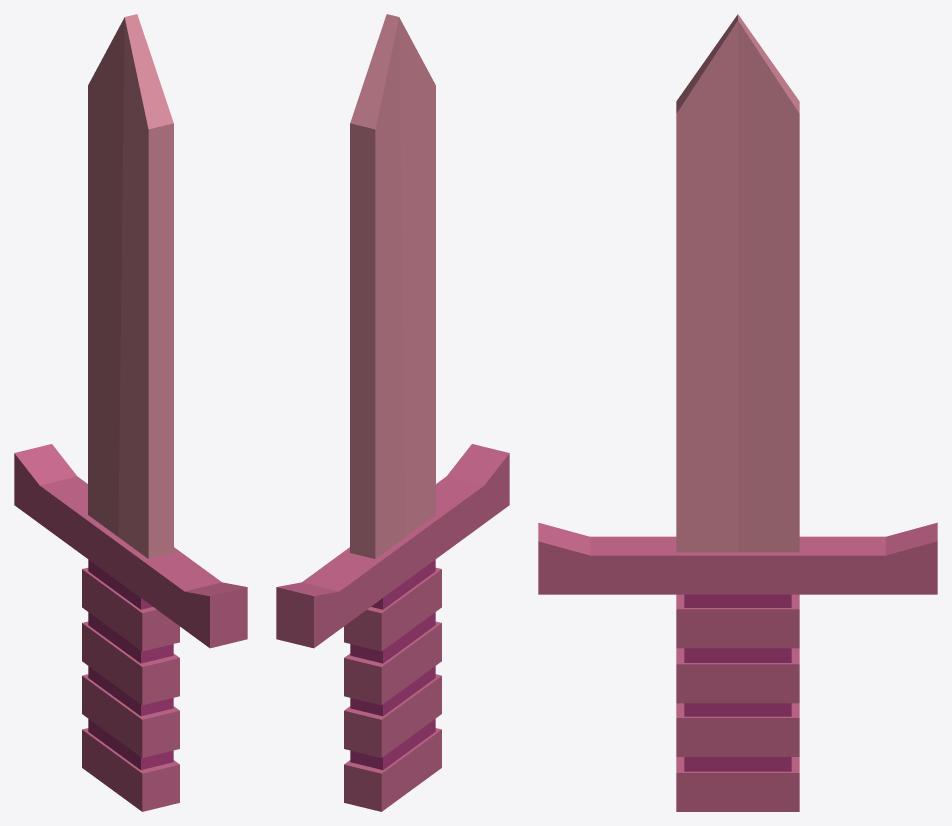
File: ironSword.glb
3 views of the same model, side by side, from view 1: azimuth 30°, elevation 25°; view 2: azimuth 150°, elevation 25°; view 3: azimuth 270°, elevation 25° (orthographic). The views are drawn at different scales.
Visible parts, largest first — view 1: Cube.009, Cube.008, Cube.002, Cube.006, Cube.001, Cube.005, Cube, Cube.007, Cube.003, Cube.004; view 2: Cube.009, Cube.008, Cube.002, Cube.006, Cube.001, Cube.005, Cube, Cube.007, Cube.003, Cube.004; view 3: Cube.009, Cube.008, Cube.006, Cube.001, Cube.005, Cube.002, Cube, Cube.007, Cube.003, Cube.004.
Boxes of the visible parts, left/top/right/bottom form: Cube.009: left=88, top=14, right=173, bottom=558; Cube.008: left=14, top=444, right=247, bottom=648; Cube.002: left=82, top=674, right=179, bottom=757; Cube.006: left=82, top=621, right=179, bottom=705; Cube.001: left=82, top=728, right=179, bottom=811; Cube.005: left=82, top=567, right=179, bottom=651; Cube: left=88, top=719, right=173, bottom=769; Cube.007: left=88, top=612, right=173, bottom=663; Cube.003: left=88, top=666, right=173, bottom=716; Cube.004: left=88, top=559, right=152, bottom=609; Cube.009: left=350, top=14, right=435, bottom=558; Cube.008: left=276, top=444, right=509, bottom=648; Cube.002: left=344, top=674, right=441, bottom=757; Cube.006: left=344, top=621, right=441, bottom=705; Cube.001: left=344, top=728, right=441, bottom=811; Cube.005: left=344, top=567, right=441, bottom=651; Cube: left=350, top=719, right=435, bottom=769; Cube.007: left=350, top=612, right=435, bottom=663; Cube.003: left=350, top=666, right=435, bottom=716; Cube.004: left=371, top=559, right=435, bottom=609; Cube.009: left=676, top=14, right=799, bottom=552; Cube.008: left=538, top=522, right=937, bottom=594; Cube.006: left=676, top=648, right=799, bottom=703; Cube.001: left=676, top=757, right=799, bottom=811; Cube.005: left=676, top=594, right=799, bottom=648; Cube.002: left=676, top=703, right=799, bottom=756; Cube: left=684, top=757, right=791, bottom=771; Cube.007: left=684, top=648, right=791, bottom=662; Cube.003: left=684, top=703, right=791, bottom=716; Cube.004: left=684, top=594, right=791, bottom=607.
Size of the model in its own units: 0.7177 by 14.01 by 6.46.
Materials: 1 (1 with a texture image).
